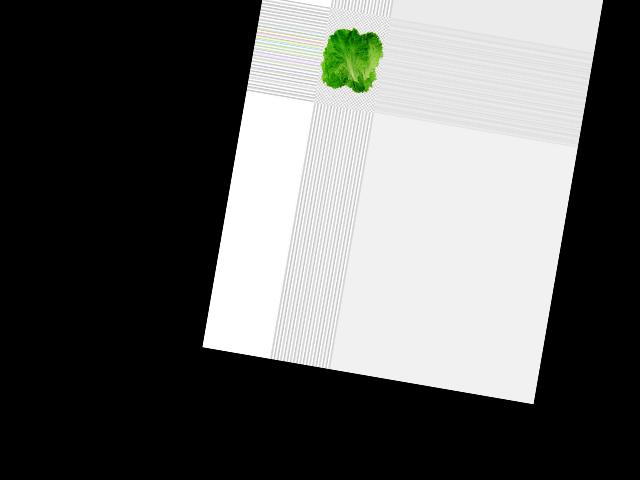lettuce: (315, 19, 388, 100)
